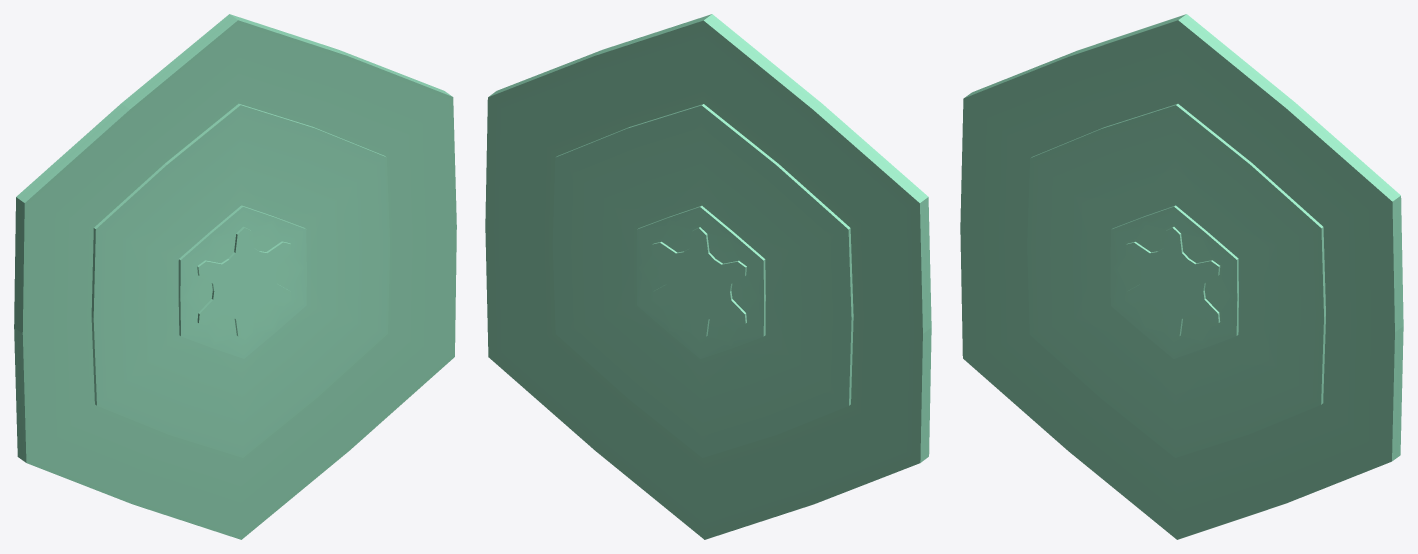
The model's file is Snowflake.008.glb.
3 views of the same model, side by side, from view 1: azimuth 30°, elevation 25°; view 2: azimuth 150°, elevation 25°; view 3: azimuth 330°, elevation 25° (orthographic).
Visible parts, largest first — view 1: Snowflake.008; view 2: Snowflake.008; view 3: Snowflake.008.
Part boxes in pixels (box(x1,y1,x2,y2)): Snowflake.008: box(14, 14, 456, 539); Snowflake.008: box(485, 14, 931, 539); Snowflake.008: box(960, 14, 1403, 539).
Bounding box in the file's own units: 474 × 541 × 37.02.
